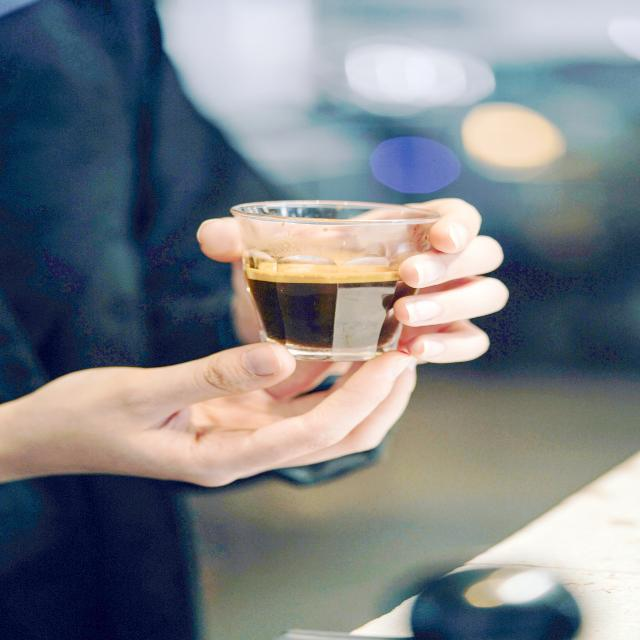drink: (238, 198, 438, 355)
